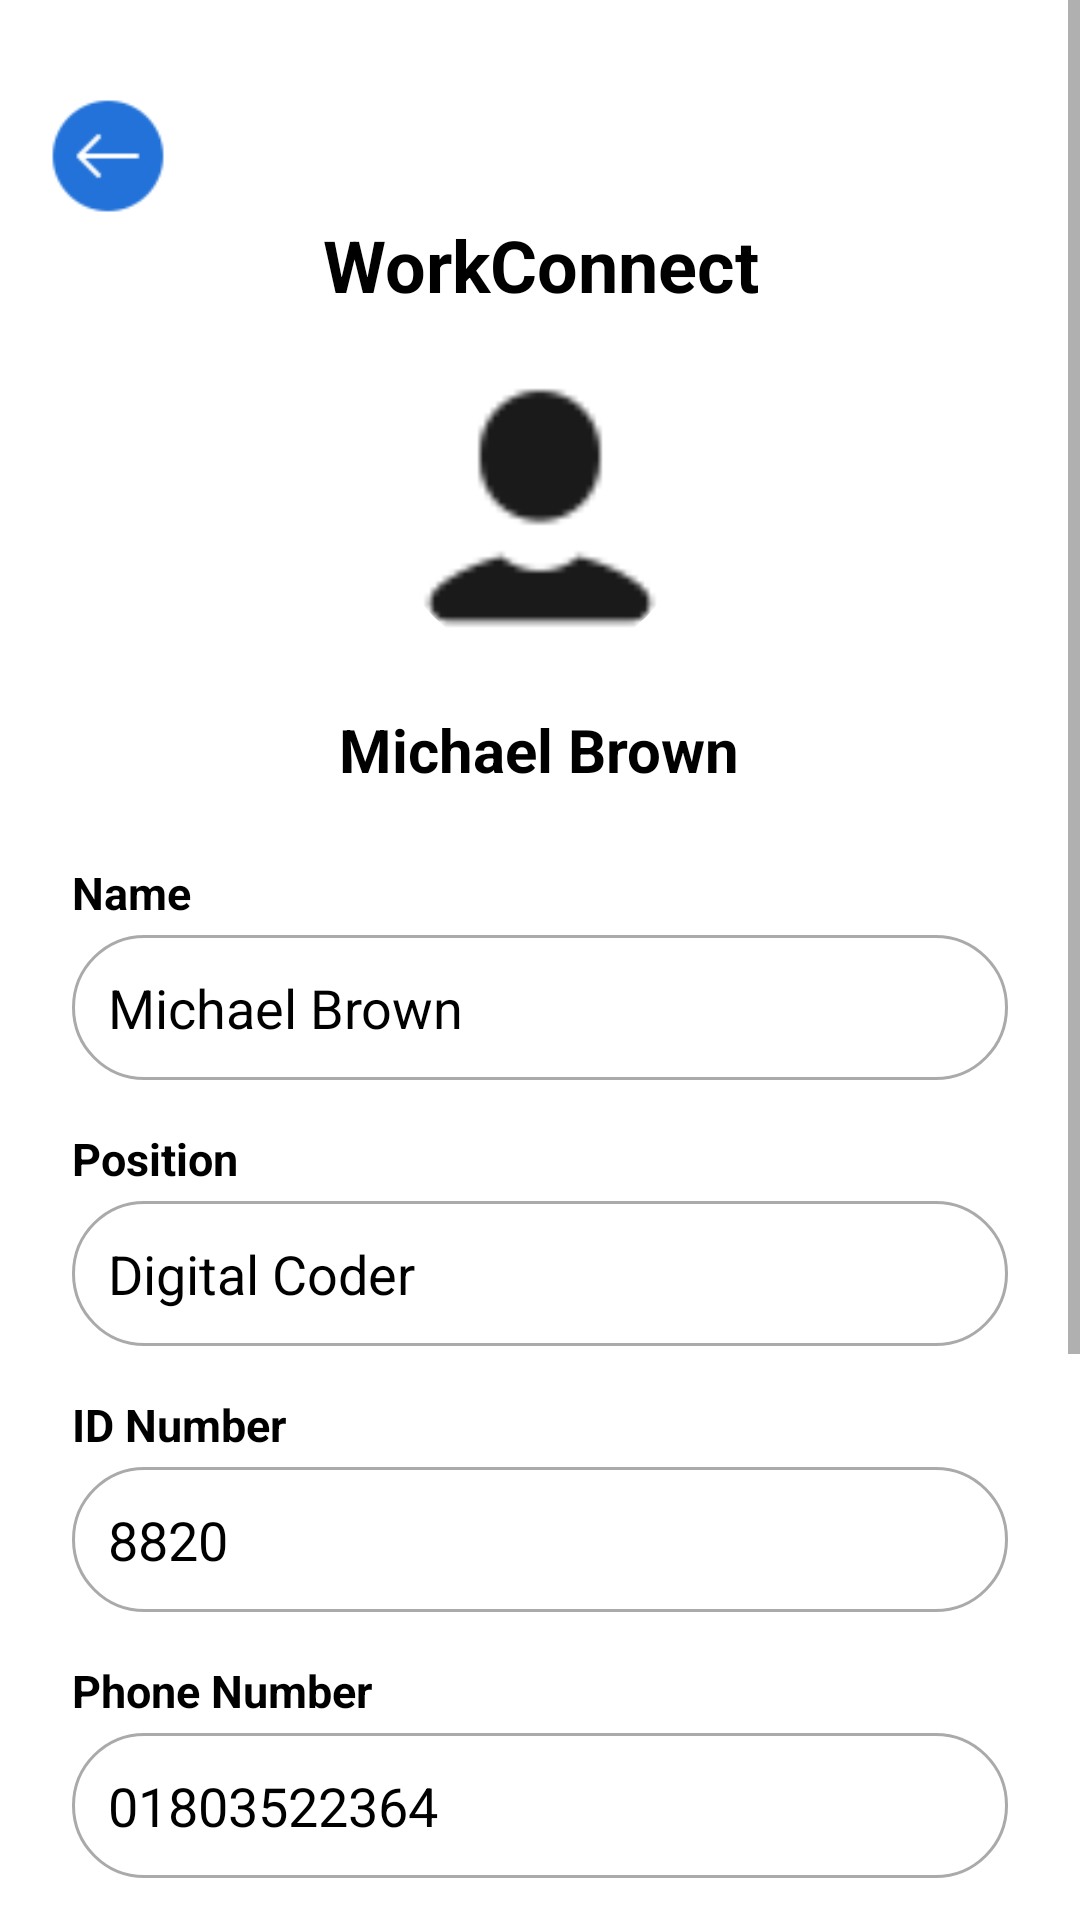

Icon bounding boxes for this 1080*1920 phone screenshot, format (x1, y1, x2, y2):
Back: (52, 100, 164, 212)
Profile Picture: (425, 389, 655, 626)
